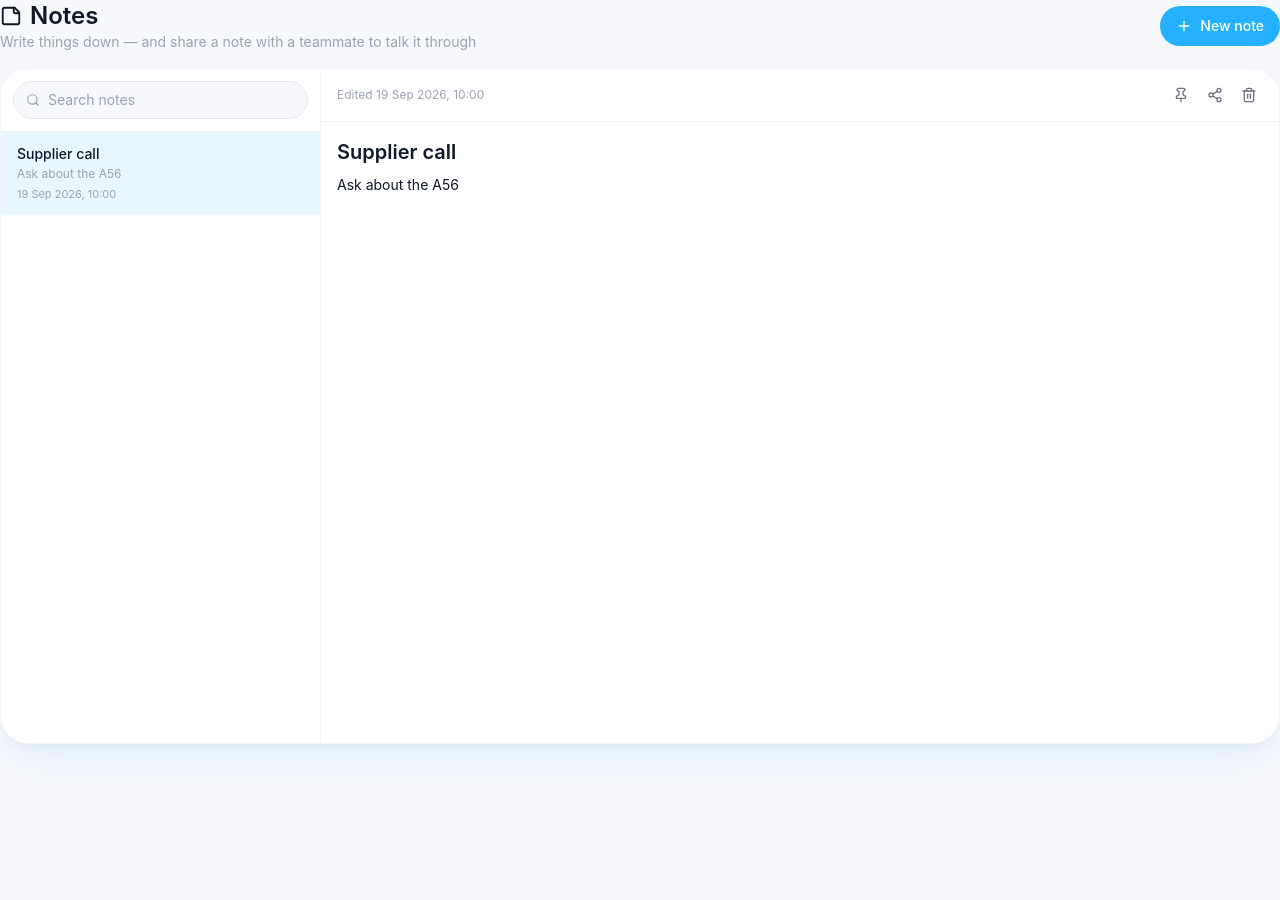
Scenario: NotesPage › sharing › shows the server's reason if sharing fails
The width and height of the screenshot is (1280, 900).
Click the button named "Share note" at (1215, 95), box [1199,81,1231,109]
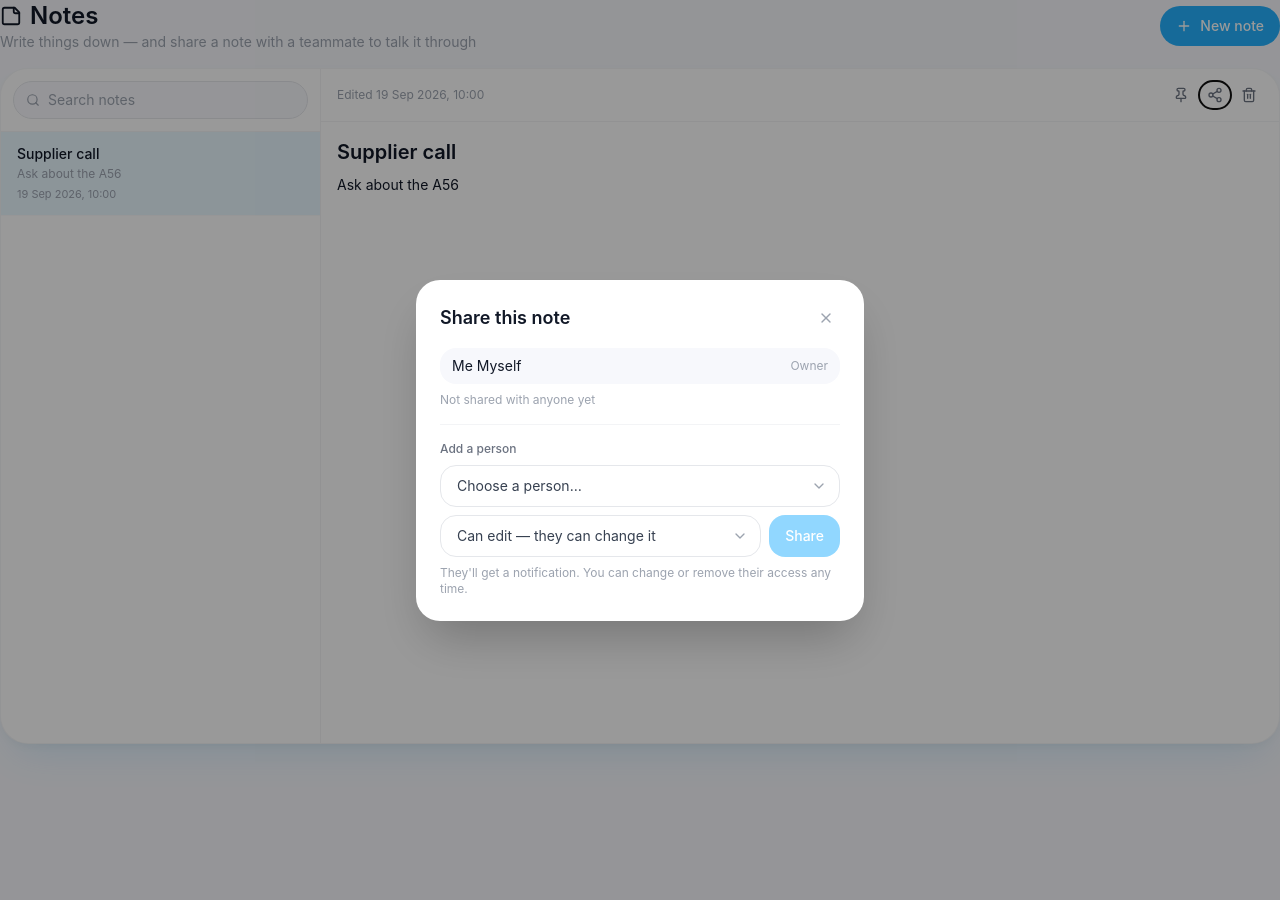
Click the button "Choose a person…" at (519, 485), box [440,464,840,506]
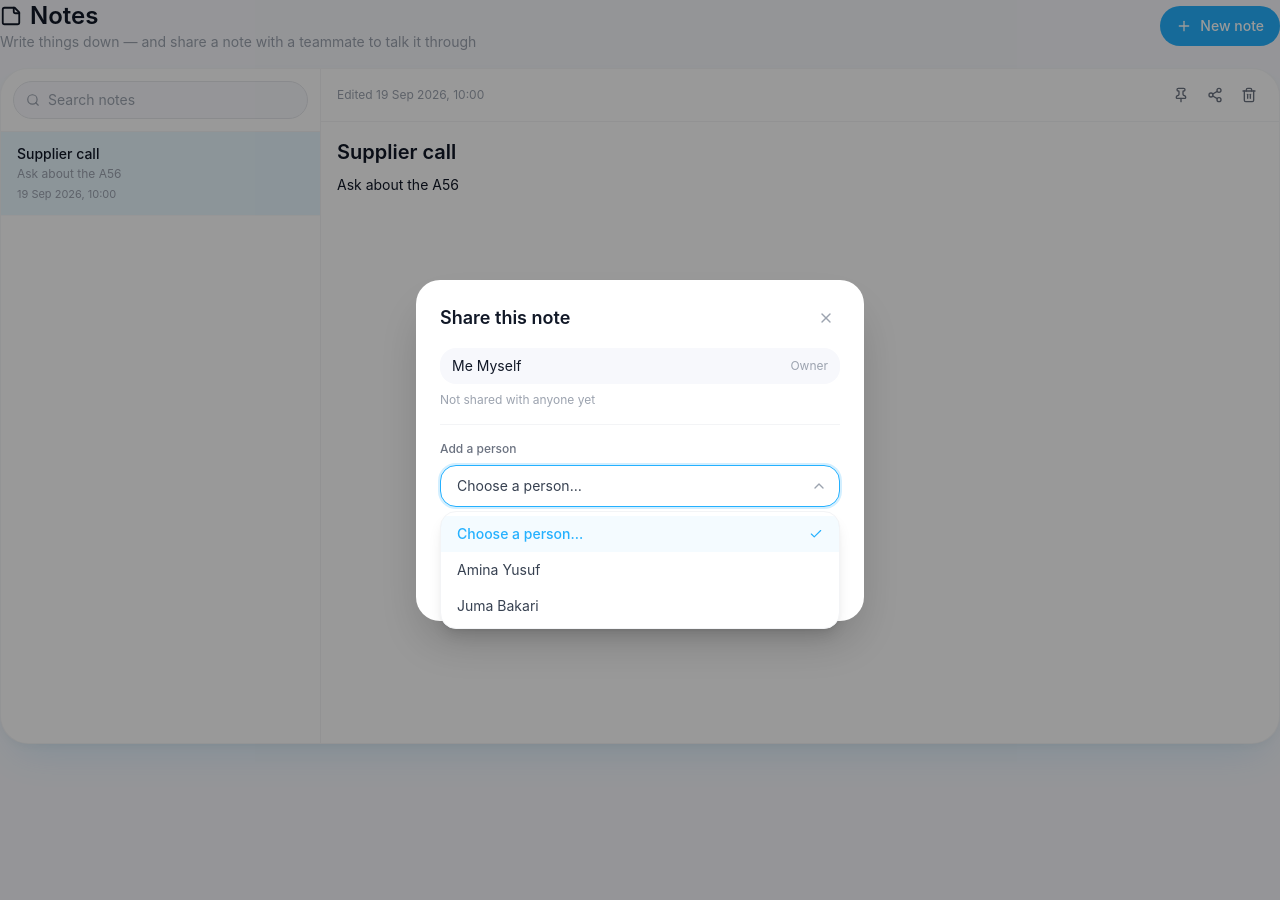
Click the option "Juma Bakari" at (498, 605), box [441,588,839,624]
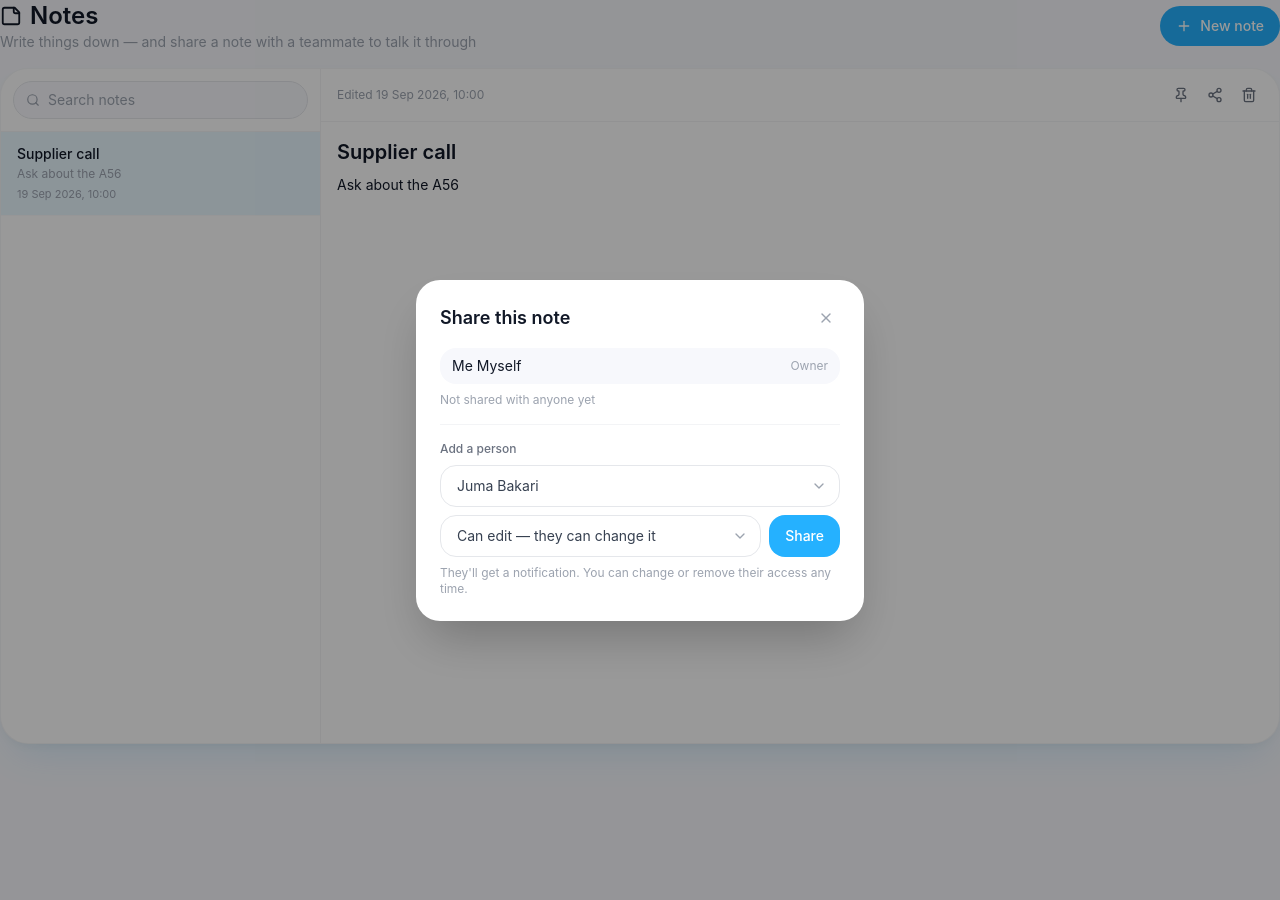
Click the button "Share" at (805, 536), box [769,514,840,556]
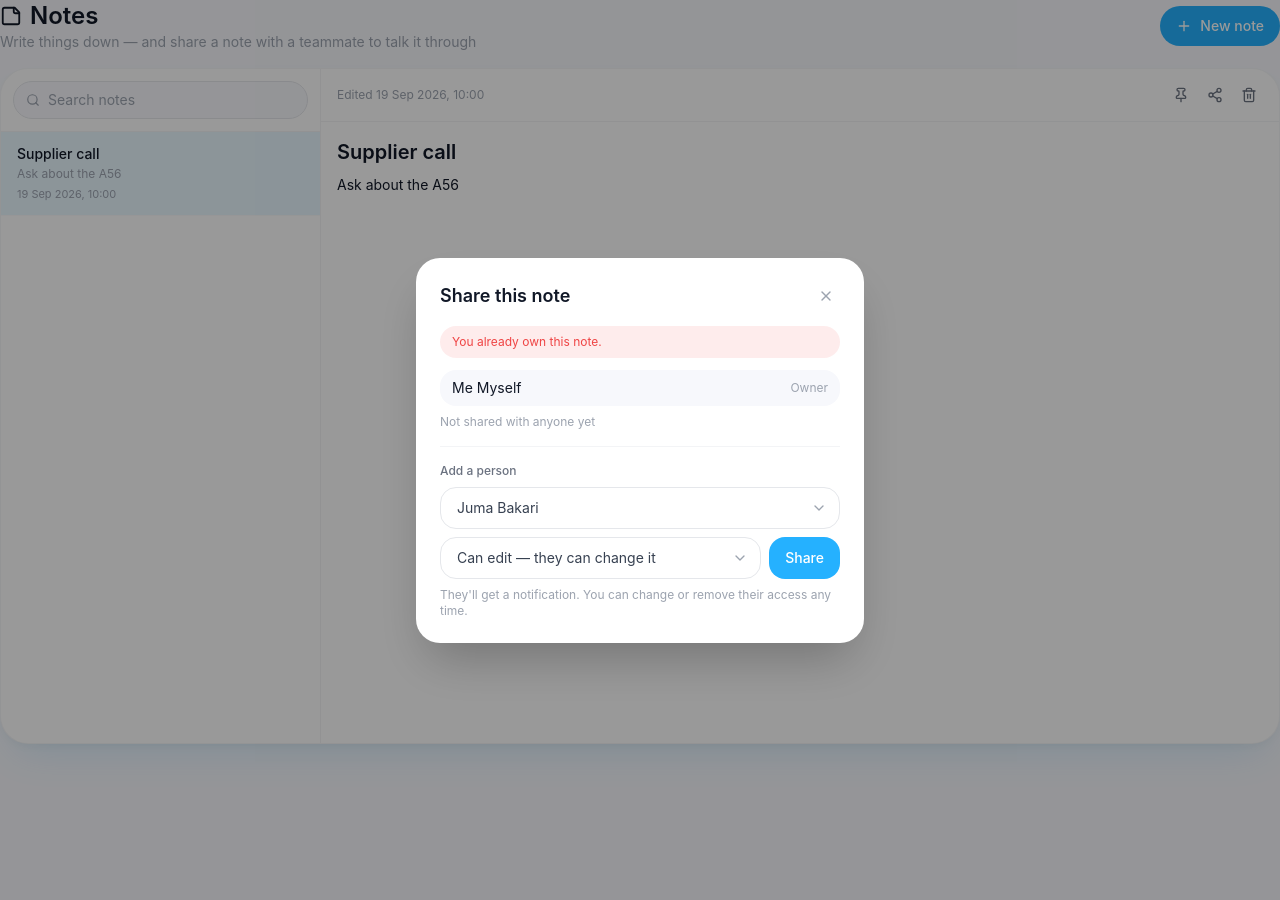
Result: the text "You already own this note." is shown at [440,326,840,358]
